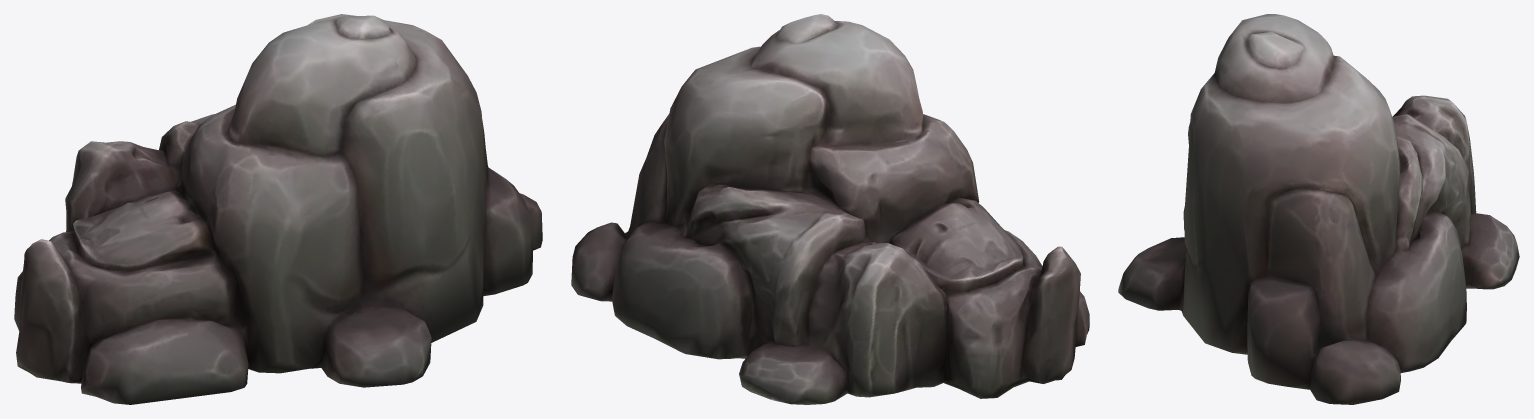
The model's file is stone_big_2.glb.
3 renders of one model, left to right at view 1: azimuth 30°, elevation 25°; view 2: azimuth 150°, elevation 25°; view 3: azimuth 270°, elevation 25°, orthographic. The views are drawn at different scales.
Visible parts, largest first — view 1: Big_2; view 2: Big_2; view 3: Big_2.
Part boxes in pixels (x1,y1,x2,y2): Big_2: (14, 14, 542, 404); Big_2: (571, 14, 1089, 404); Big_2: (1118, 14, 1519, 404).
Bounding box in the file's own units: 7.41 × 4.02 × 5.3.
Materials: 1 (1 with a texture image).
